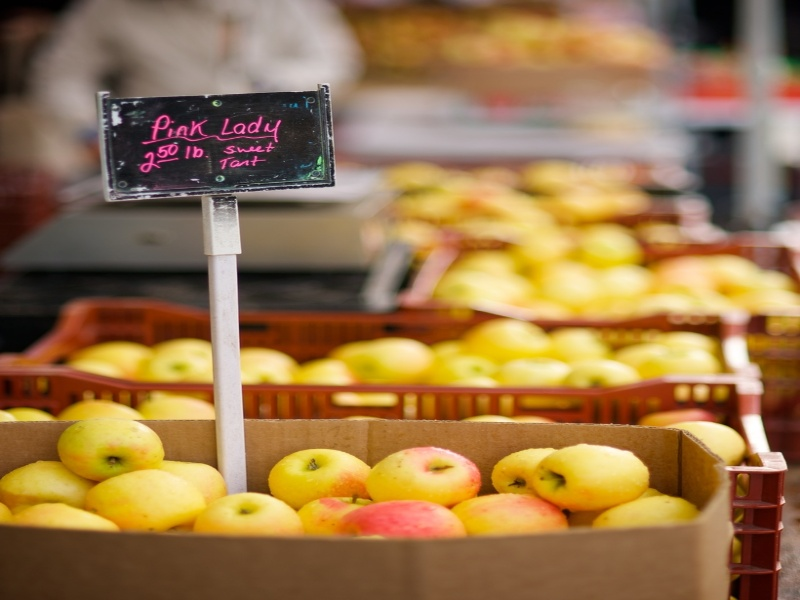apple: (529, 438, 652, 506), (365, 441, 480, 504), (62, 412, 167, 474), (190, 485, 310, 538), (265, 442, 369, 499)
